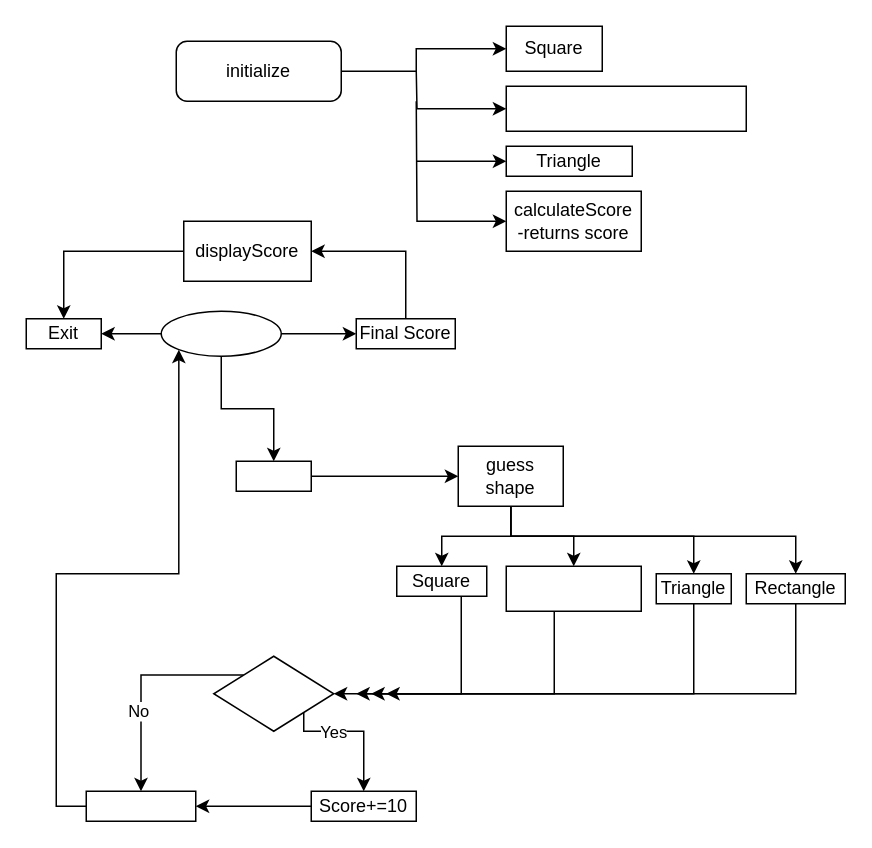
Some shapes in this 872 by 848 pixel diagram are drawn without their labels. Each missing label, with the centre of its shape:
"Guess correct?" goes at point (273, 693).
"None of above" goes at point (573, 588).
"Play" goes at point (273, 475).
"Rectangle(height, width)" goes at point (625, 108).
"Return Score" goes at point (140, 805).
"Start" goes at point (220, 333).
